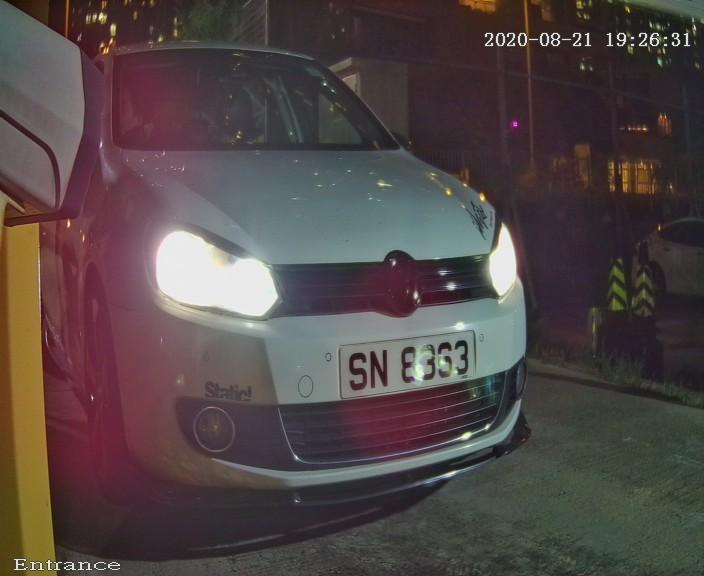Car: (29, 16, 601, 546)
License Plate: (324, 322, 494, 407)
